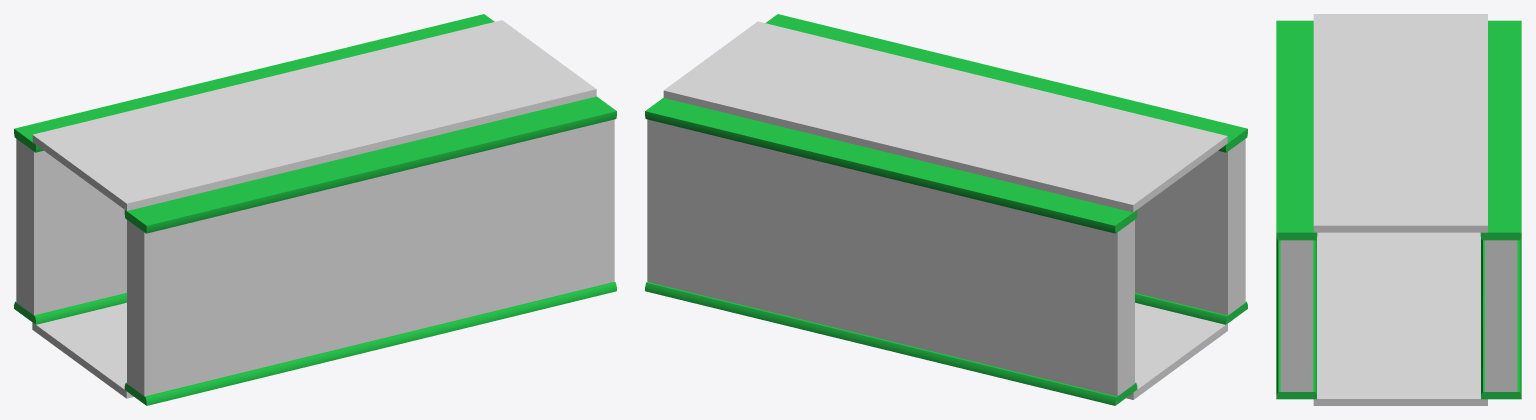
File: Basic Hallway 01.fbx
The picture shows the model from 3 angles, left to right: view 1: azimuth 30°, elevation 25°; view 2: azimuth 150°, elevation 25°; view 3: azimuth 270°, elevation 25°; orthographic projection. The views are drawn at different scales.
Visible parts, largest first — view 1: Plane_001; view 2: Plane_001; view 3: Plane_001.
Part boxes in pixels (x1,y1,x2,y2): Plane_001: (14,14,616,405); Plane_001: (645,14,1247,405); Plane_001: (1276,14,1521,405).
Size of the model in its own units: 1258 by 498 by 615.
